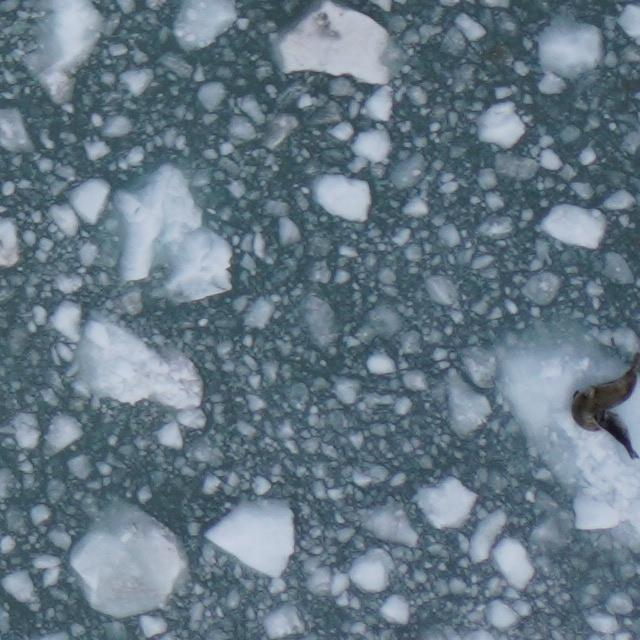seal: (566, 349, 640, 436), (586, 398, 640, 464)
